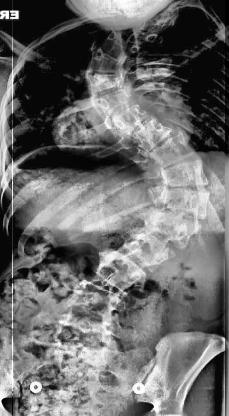Vertebrae: (136, 130, 200, 174), (142, 204, 204, 249), (51, 310, 119, 350), (148, 152, 214, 192), (123, 228, 179, 275), (120, 112, 176, 158), (89, 251, 147, 295), (151, 182, 213, 222), (66, 278, 124, 320), (44, 343, 112, 377), (102, 101, 150, 137), (87, 42, 135, 74), (90, 86, 136, 118), (86, 66, 130, 96)
